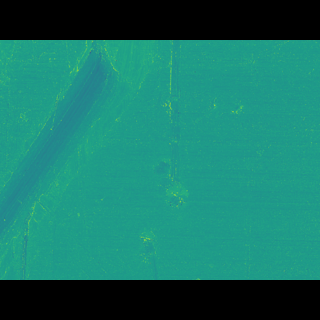Loch: (0, 70, 162, 249), (157, 69, 197, 178), (151, 159, 193, 199), (133, 211, 165, 238)
